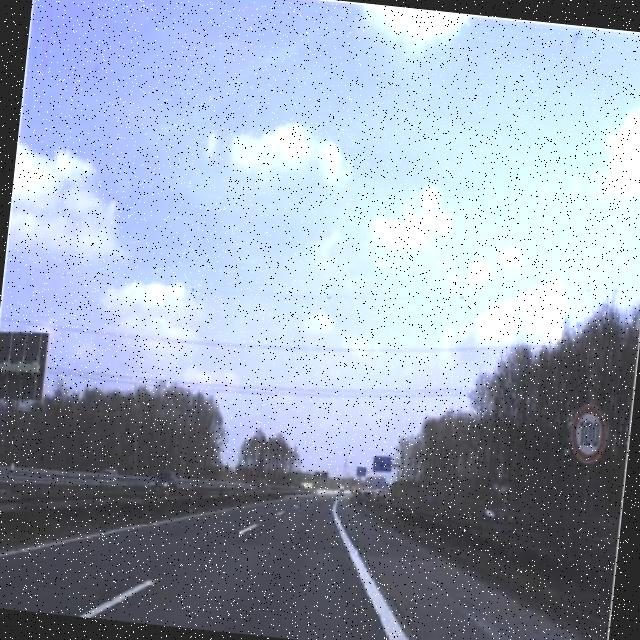Ograniczenie predkosci do 100: (564, 397, 612, 468)
